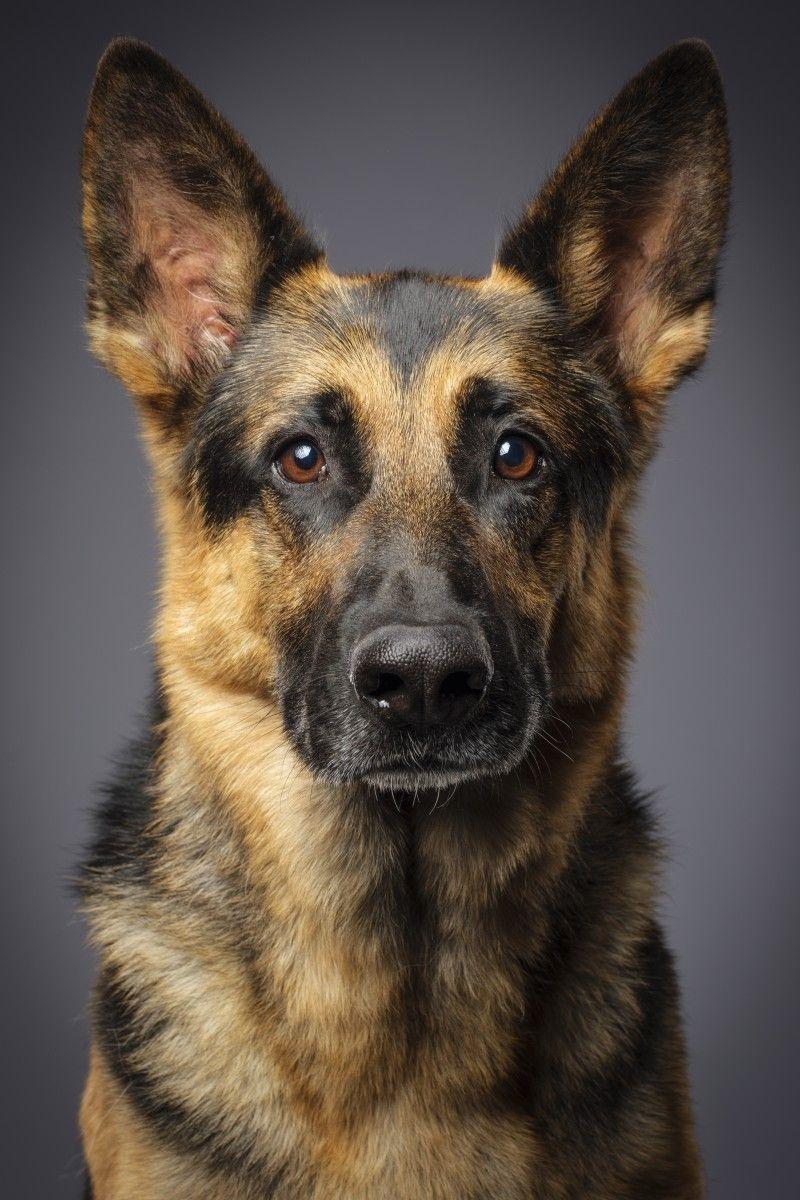adult_dog: (76, 35, 733, 1200)
